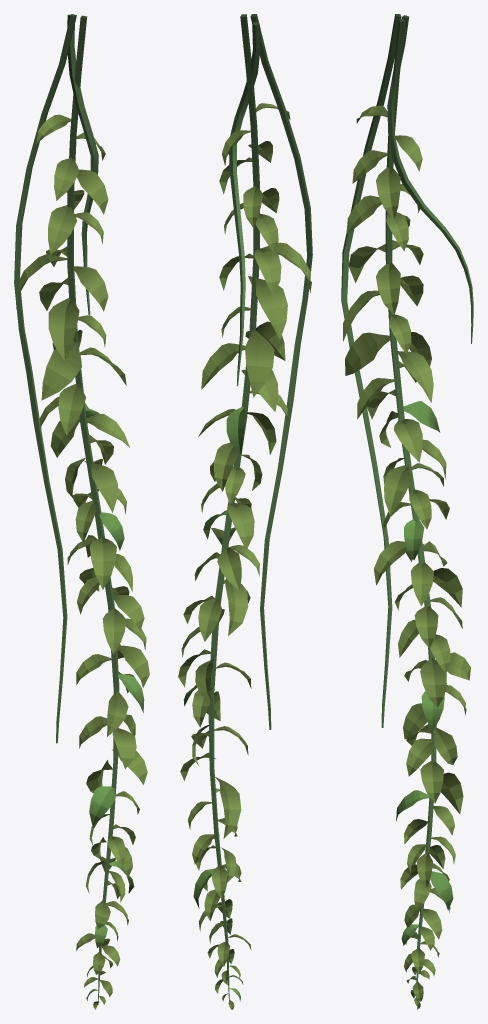
Rendered from Jungle_LeafyVines_E.fbx.
3 views of the same model, side by side, from view 1: azimuth 30°, elevation 25°; view 2: azimuth 210°, elevation 25°; view 3: azimuth 330°, elevation 25° (orthographic).
Parts seen in each view (by area): view 1: Jungle_LeafyVines_E; view 2: Jungle_LeafyVines_E; view 3: Jungle_LeafyVines_E.
Boxes of the visible parts, x1,y1,x2,y2 form: Jungle_LeafyVines_E: (14,14,149,1009); Jungle_LeafyVines_E: (178,14,312,1009); Jungle_LeafyVines_E: (341,14,473,1009).
Size of the model in its own units: 1.04 by 8.05 by 0.8518.
